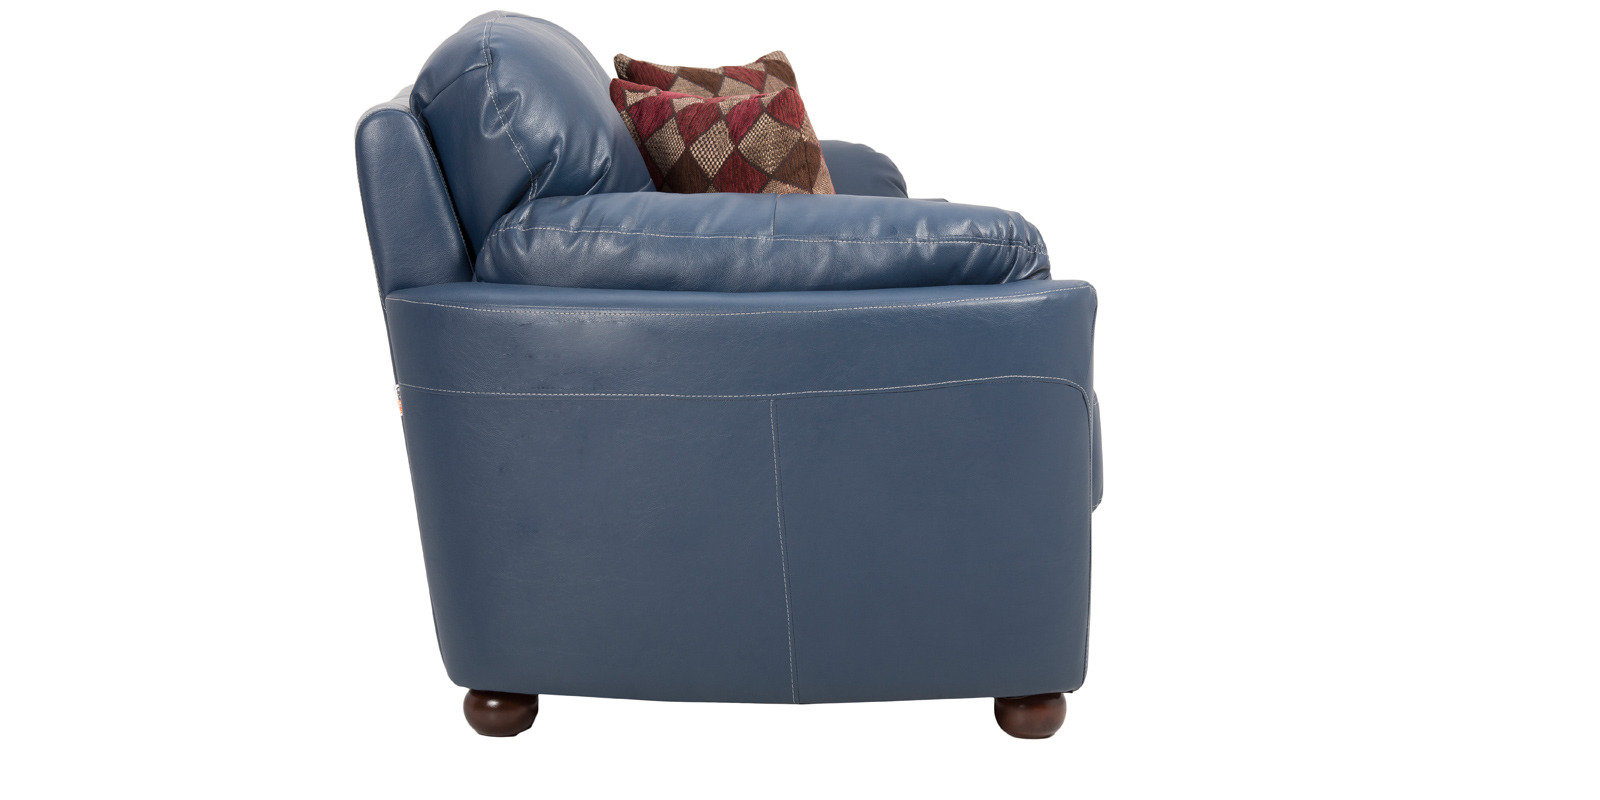Glassgow Heaven Three Seater Sofa with Throw Cushions in Blue Colour by Urban Li: (345, 5, 1132, 764)
